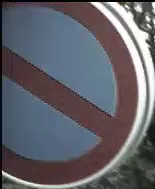No waiting: (3, 2, 141, 176)
